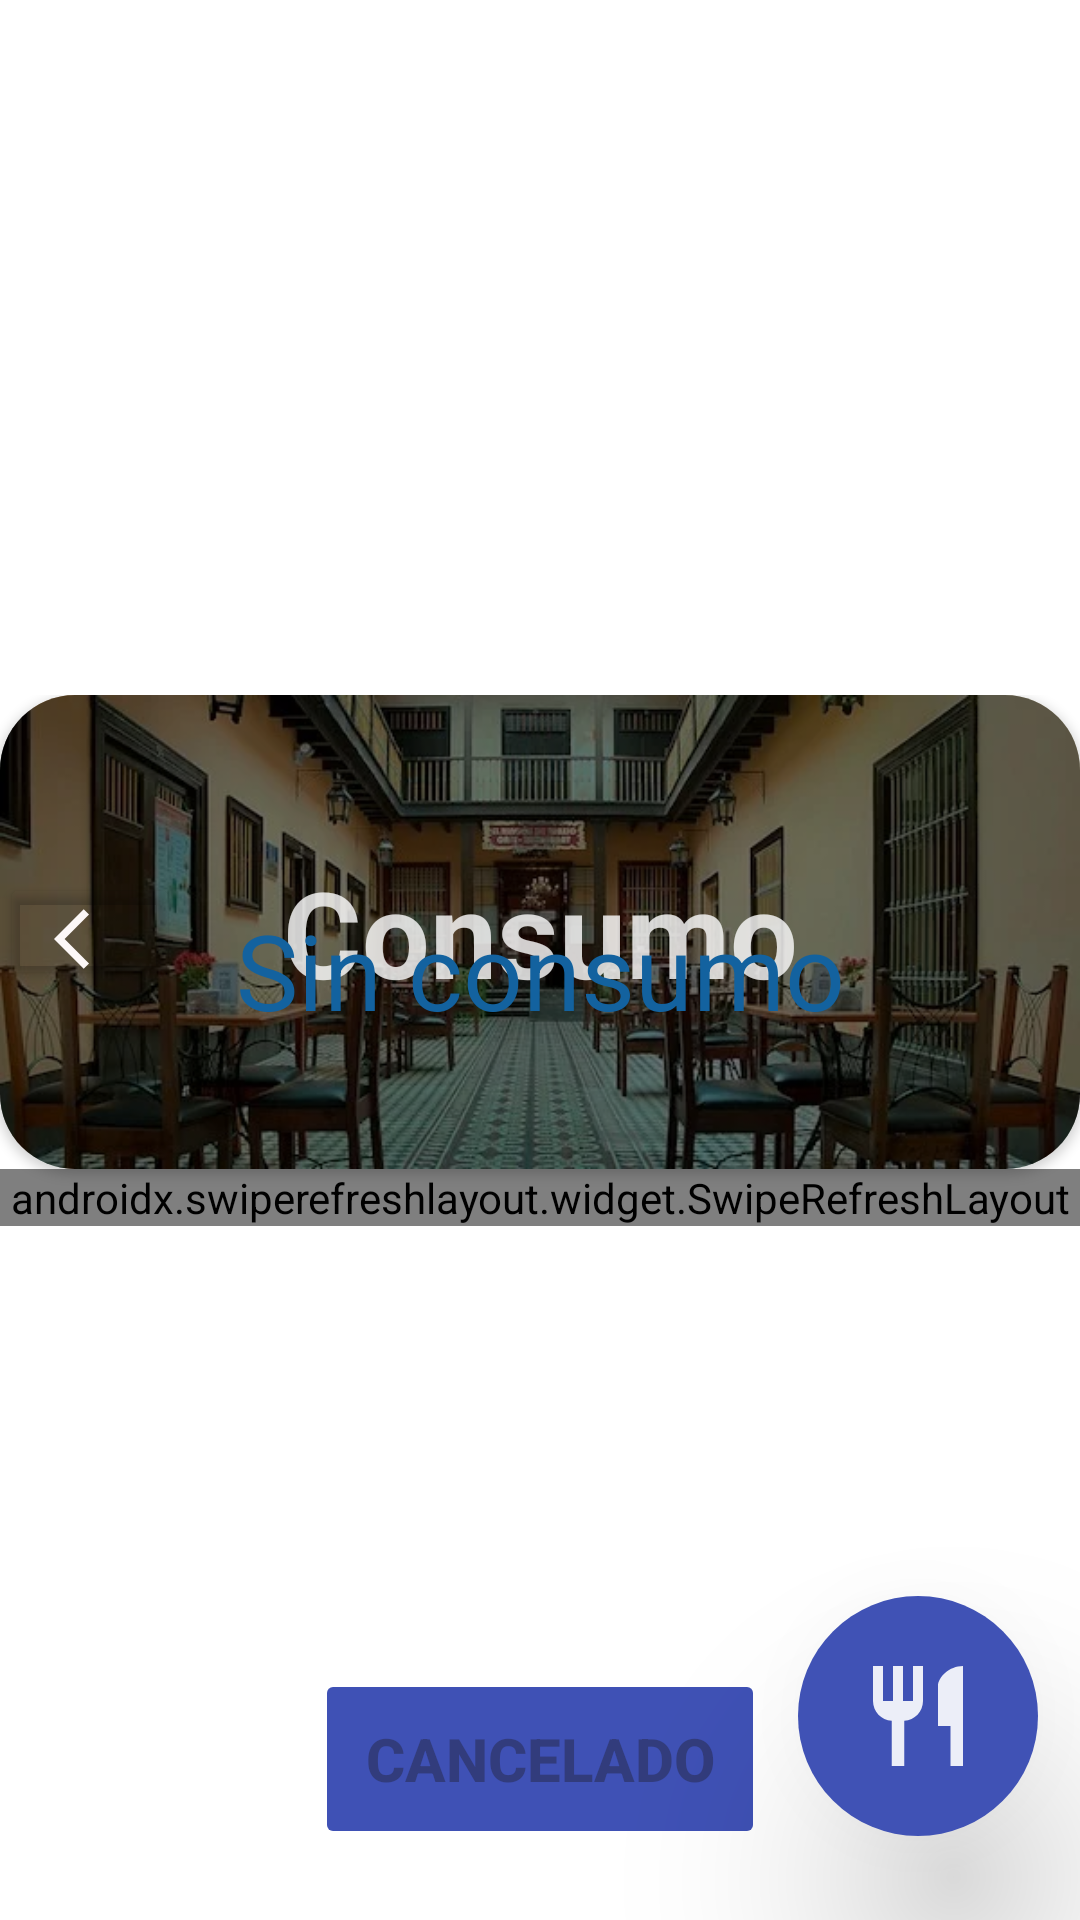

Named icons in this screenshot (1080x1920) and their bounding boxes, (x1, y1, x2, y2):
restaurant: (798, 1596, 1038, 1836)
